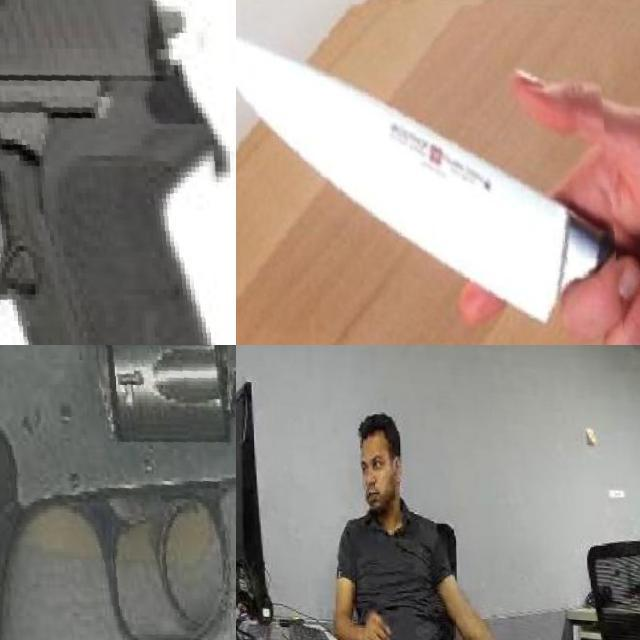-: (236, 0, 619, 345)
gun-knife-thesis - v11 Yolov5 augmented: (0, 0, 236, 345), (0, 345, 236, 640)
